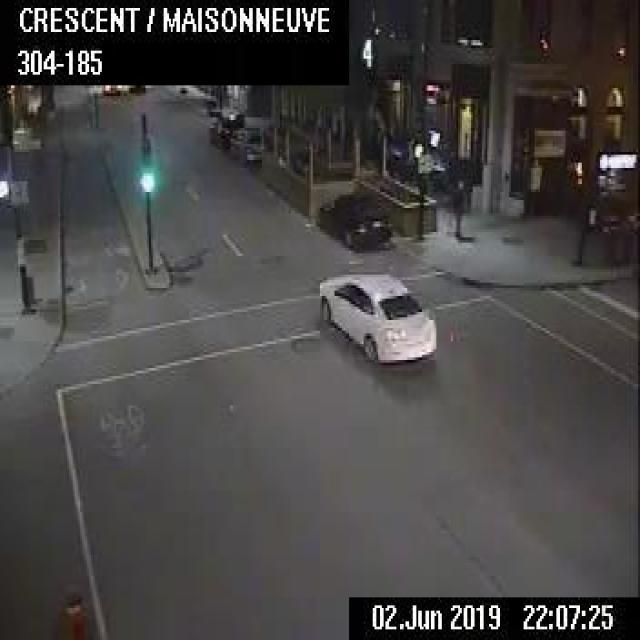pedestrian: (53, 587, 85, 637), (448, 171, 466, 240)
vehicle: (318, 270, 437, 364), (316, 189, 391, 247), (207, 111, 244, 149), (229, 126, 267, 162), (102, 82, 144, 94)
